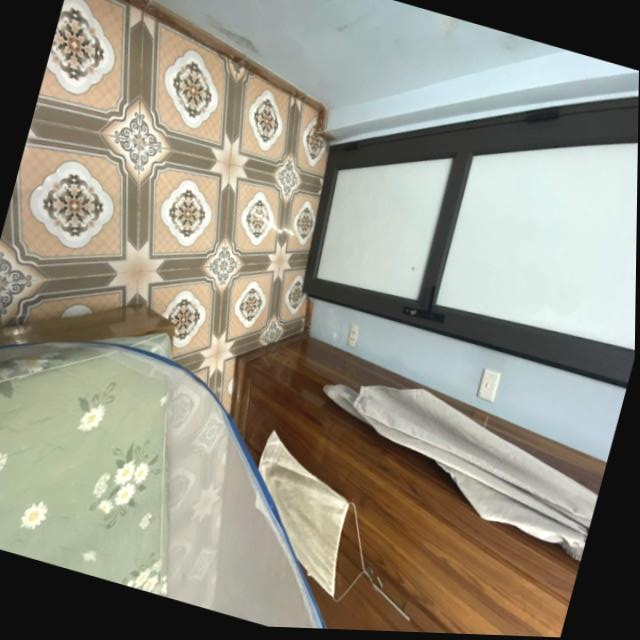outlet: (345, 321, 363, 348)
